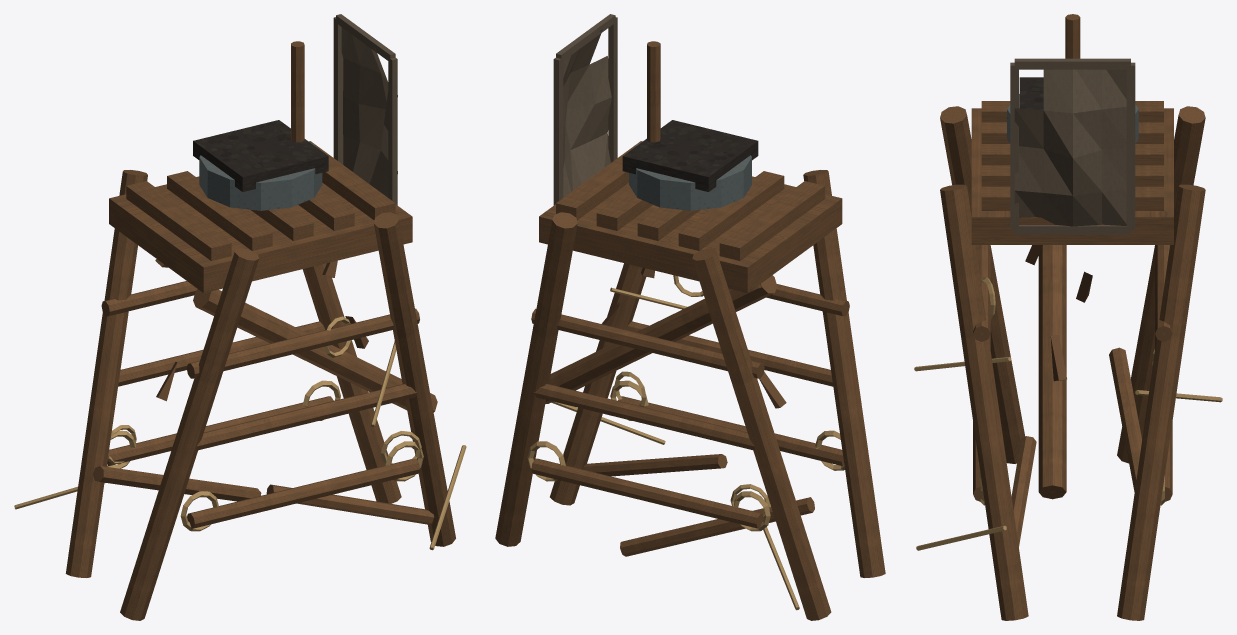
The model's file is cs-015_signal_beacon_storm_damaged.obj.
3 views of the same model, side by side, from view 1: azimuth 30°, elevation 25°; view 2: azimuth 150°, elevation 25°; view 3: azimuth 270°, elevation 25° (orthographic). The views are drawn at different scales.
Parts seen in each view (by area): view 1: cs-015_signal_beacon_storm_damaged; view 2: cs-015_signal_beacon_storm_damaged; view 3: cs-015_signal_beacon_storm_damaged.
Boxes of the visible parts, x1,y1,x2,y2 form: cs-015_signal_beacon_storm_damaged: (14, 14, 466, 620); cs-015_signal_beacon_storm_damaged: (495, 14, 885, 620); cs-015_signal_beacon_storm_damaged: (914, 14, 1222, 620).
Bounding box in the file's own units: 1.71 × 2.37 × 1.22.
Materials: 5 (5 with a texture image).
